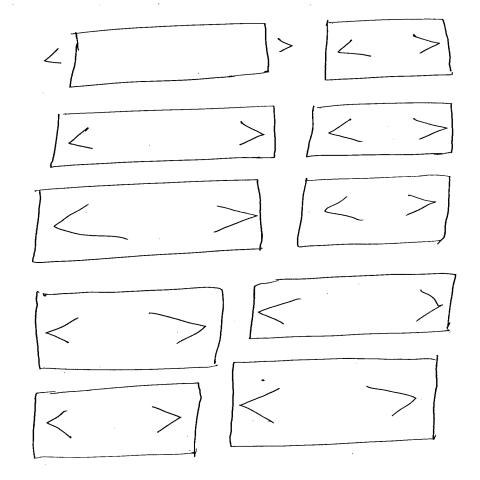Carousel: (31, 179, 265, 265), (230, 359, 440, 449), (43, 23, 295, 90), (35, 287, 226, 372), (49, 106, 278, 169), (248, 274, 458, 341), (32, 382, 203, 460), (296, 175, 452, 249), (306, 103, 455, 159), (324, 19, 455, 82)
